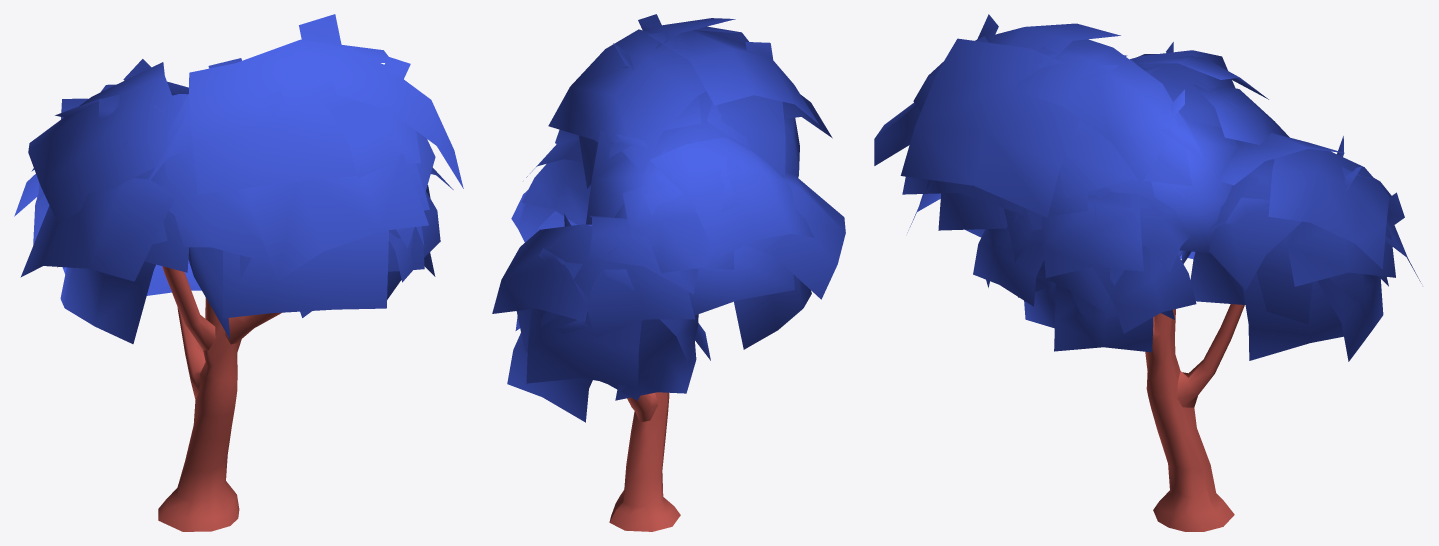
The model's file is Tree_D.fbx.
3 renders of one model, left to right at view 1: azimuth 30°, elevation 25°; view 2: azimuth 150°, elevation 25°; view 3: azimuth 270°, elevation 25°, orthographic. The views are drawn at different scales.
Parts seen in each view (by area): view 1: Tree_D; view 2: Tree_D; view 3: Tree_D.
Boxes of the visible parts, x1=… form: Tree_D: x1=14, y1=14, x2=463, y2=531; Tree_D: x1=492, y1=14, x2=845, y2=531; Tree_D: x1=874, y1=14, x2=1421, y2=531.
Bounding box in the file's own units: 681 × 857 × 871.
